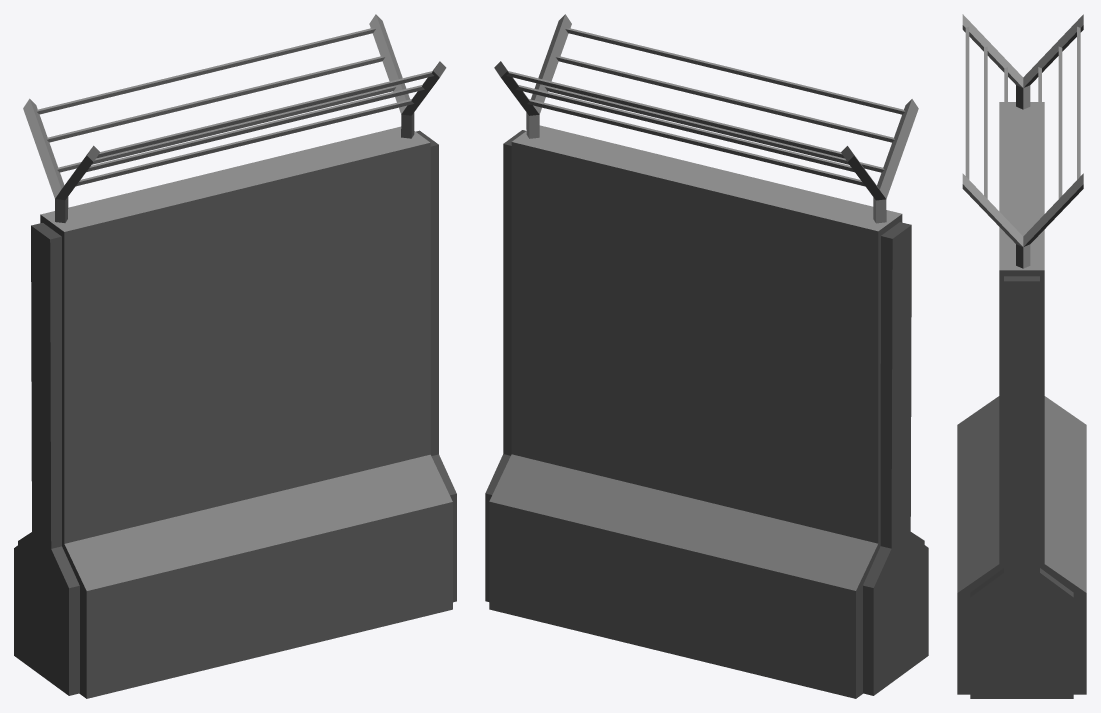
File: SM_Prop_Wall_02.fbx
The picture shows the model from 3 angles, left to right: view 1: azimuth 30°, elevation 25°; view 2: azimuth 150°, elevation 25°; view 3: azimuth 270°, elevation 25°; orthographic projection. The views are drawn at different scales.
Parts seen in each view (by area): view 1: SM_Prop_Wall_02; view 2: SM_Prop_Wall_02; view 3: SM_Prop_Wall_02.
Boxes of the visible parts, x1,y1,x2,y2 form: SM_Prop_Wall_02: (14, 14, 456, 698); SM_Prop_Wall_02: (485, 14, 928, 698); SM_Prop_Wall_02: (957, 14, 1086, 698).
Bounding box in the file's own units: 5.01 × 6.76 × 1.53.
